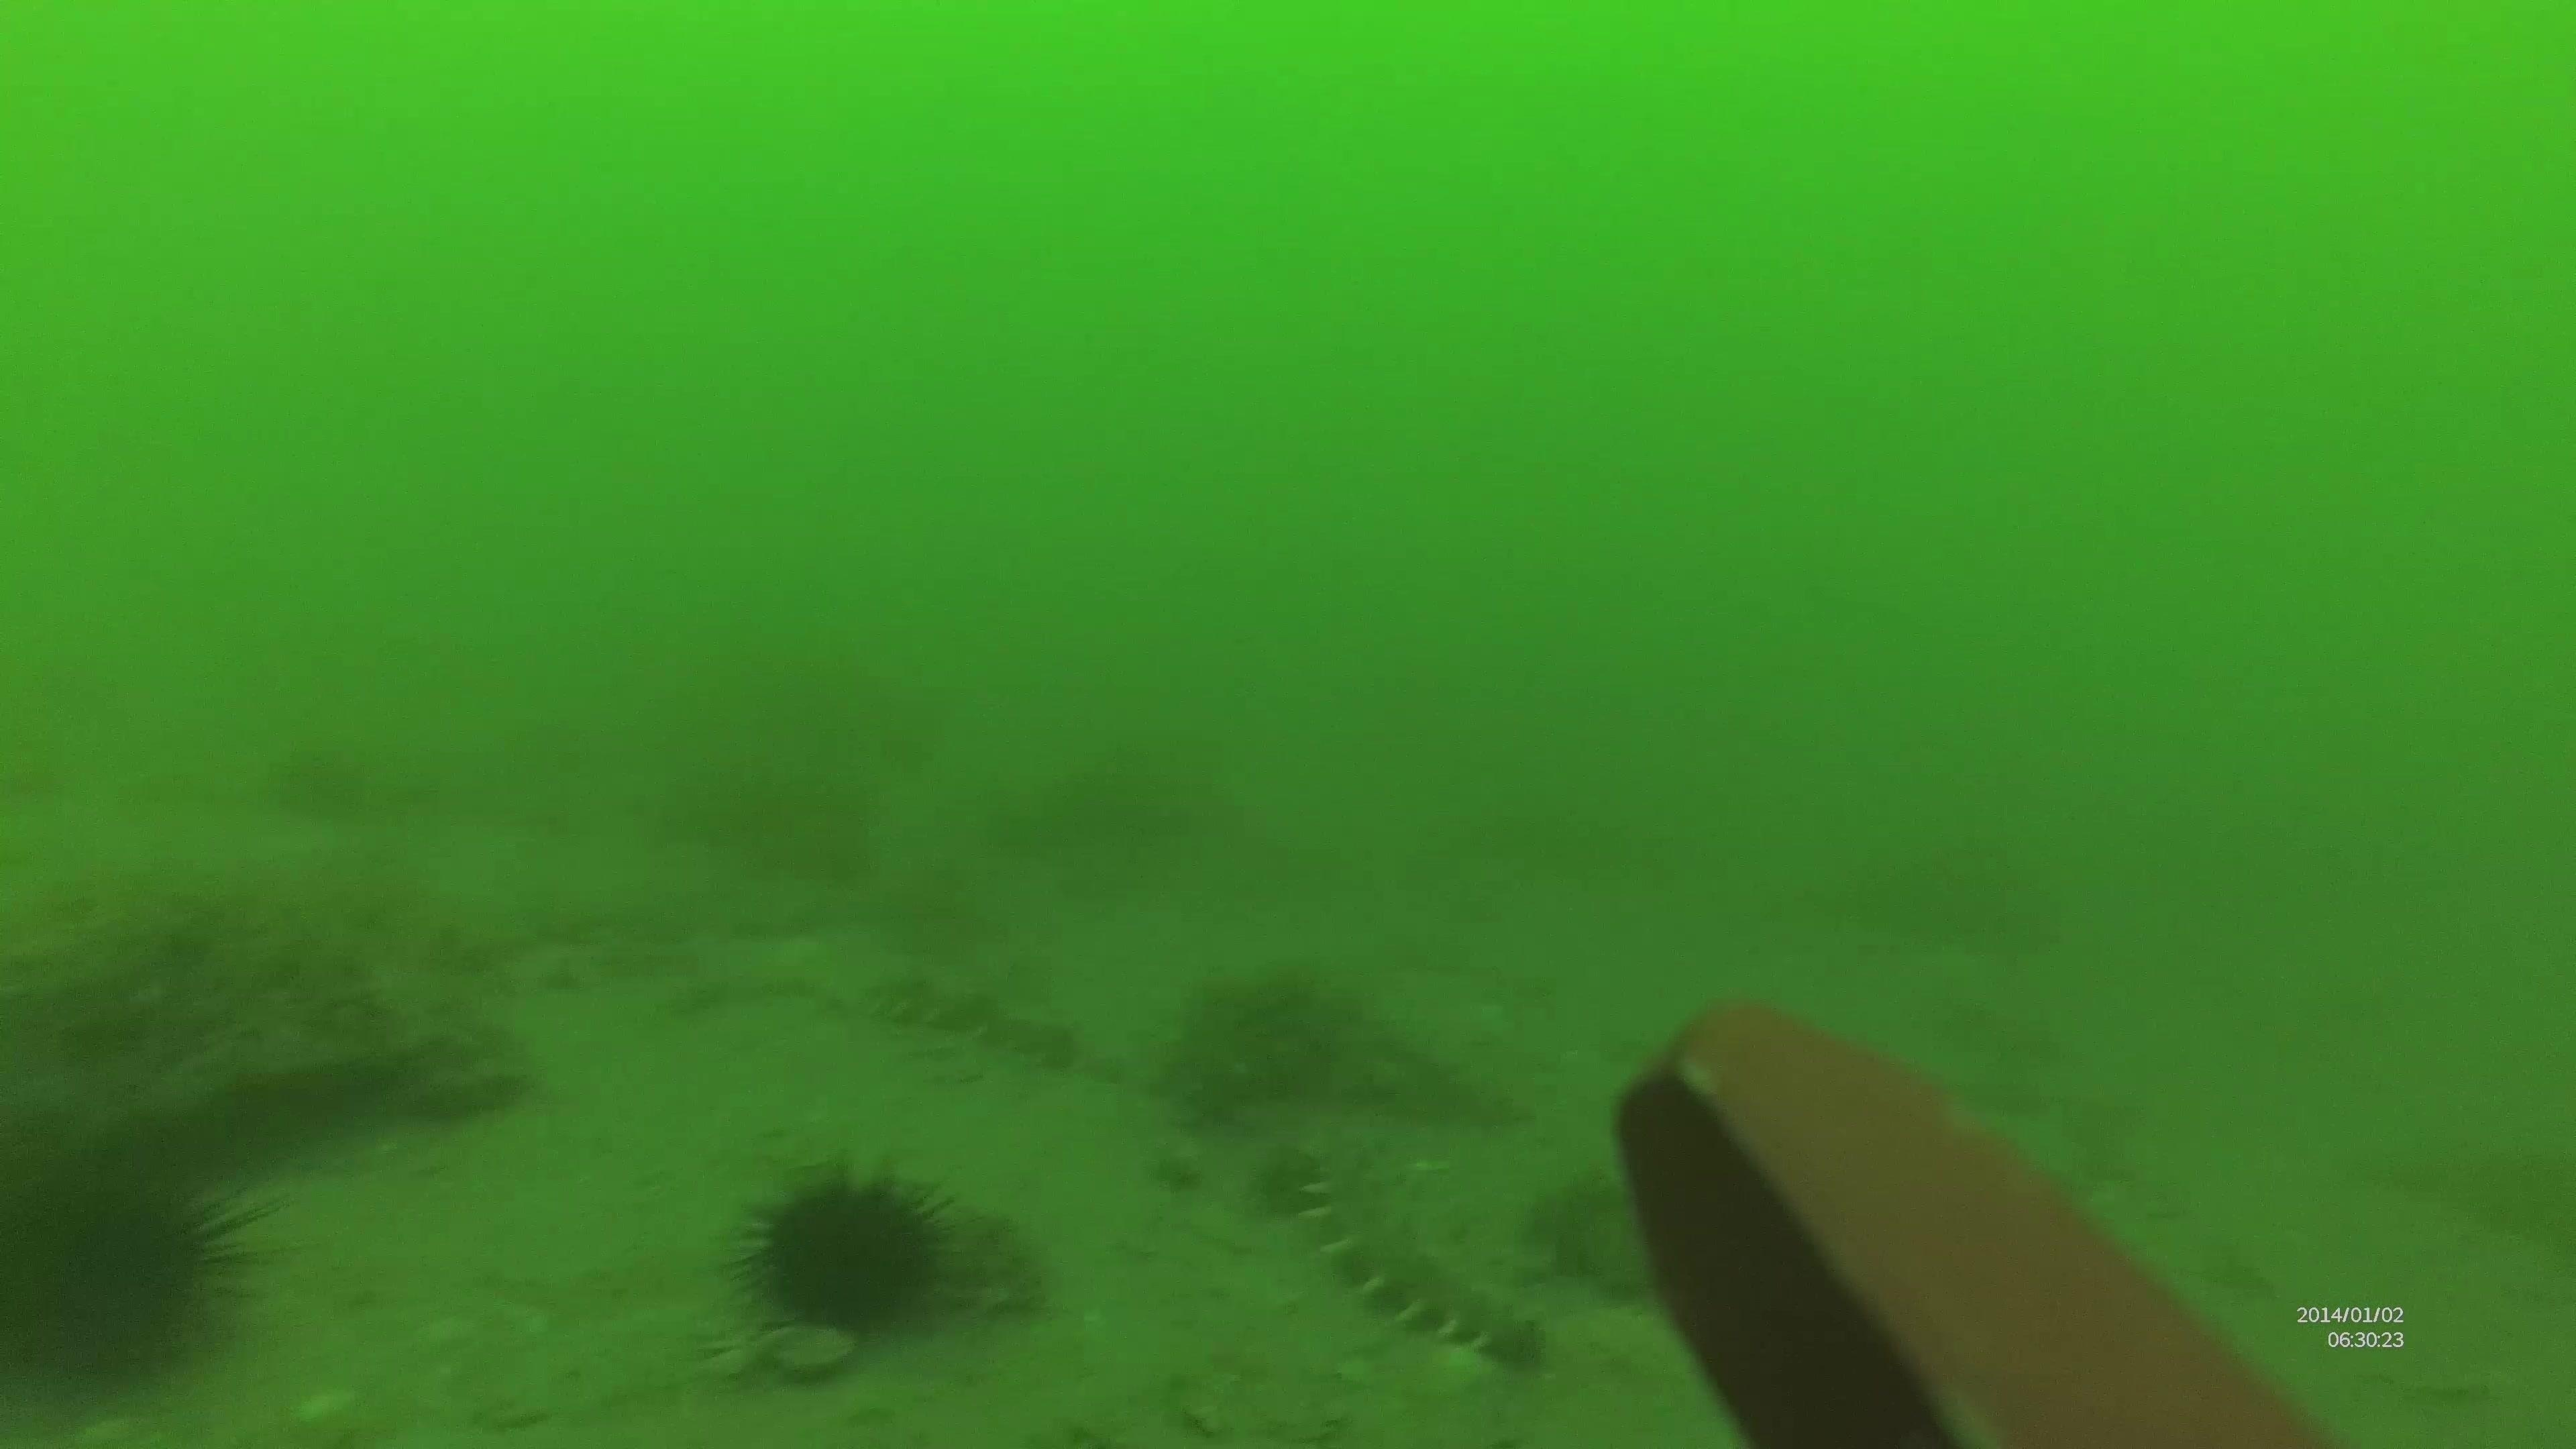echinus: (2, 1111, 283, 1421), (731, 1152, 966, 1345)
holothurian: (1288, 1131, 1555, 1375), (855, 959, 1092, 1074)
